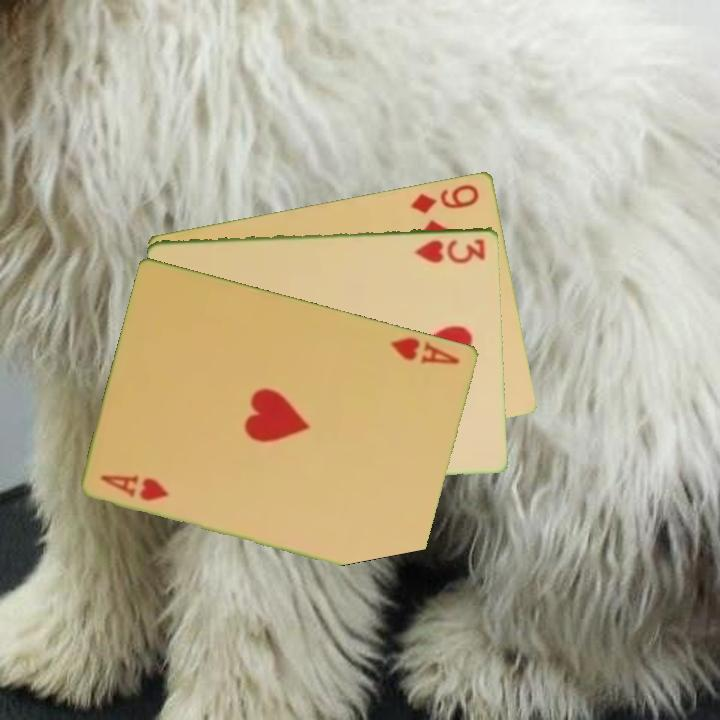3h: (412, 235, 489, 266)
9d: (407, 180, 483, 216)
Ah: (388, 333, 463, 367), (97, 470, 172, 504)
